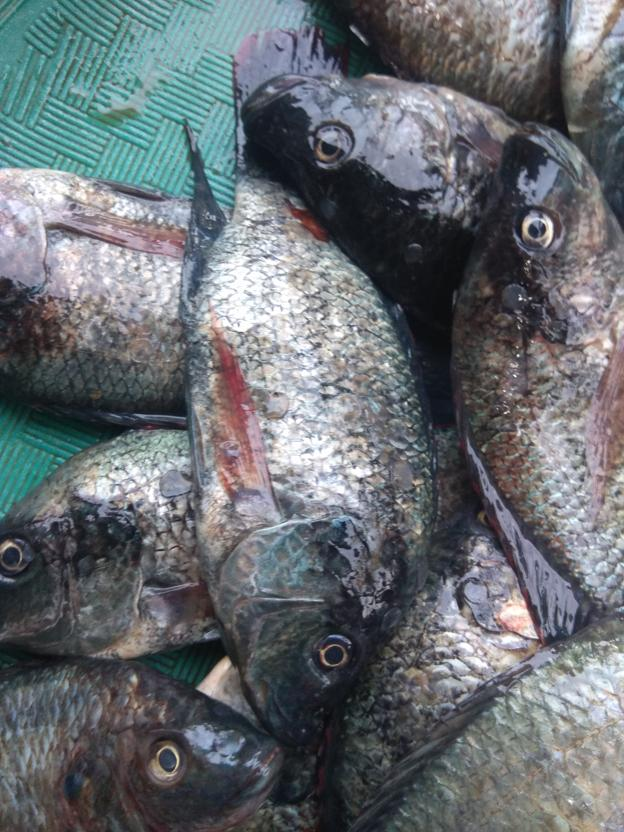Fish head: (201, 515, 403, 748), (469, 124, 624, 351), (245, 70, 449, 234), (94, 683, 282, 832), (1, 477, 150, 658)
